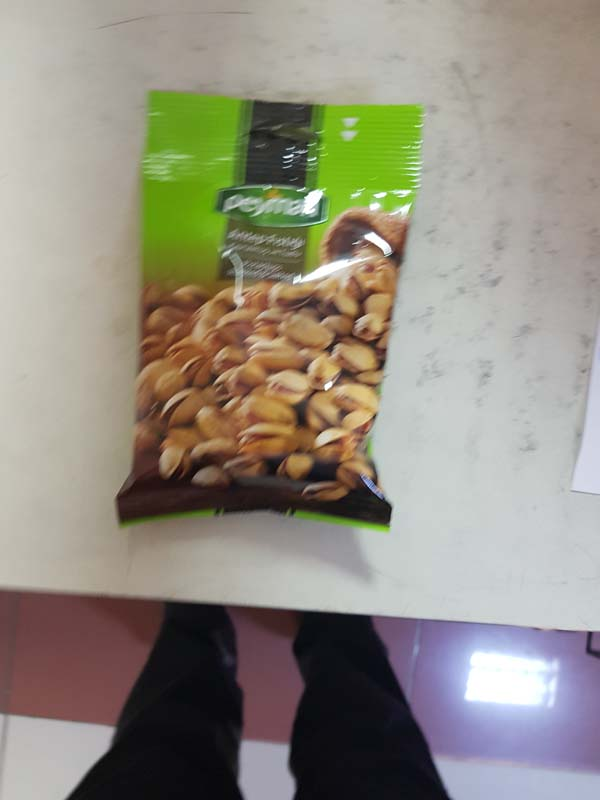antepfistigi: (118, 80, 436, 543)
